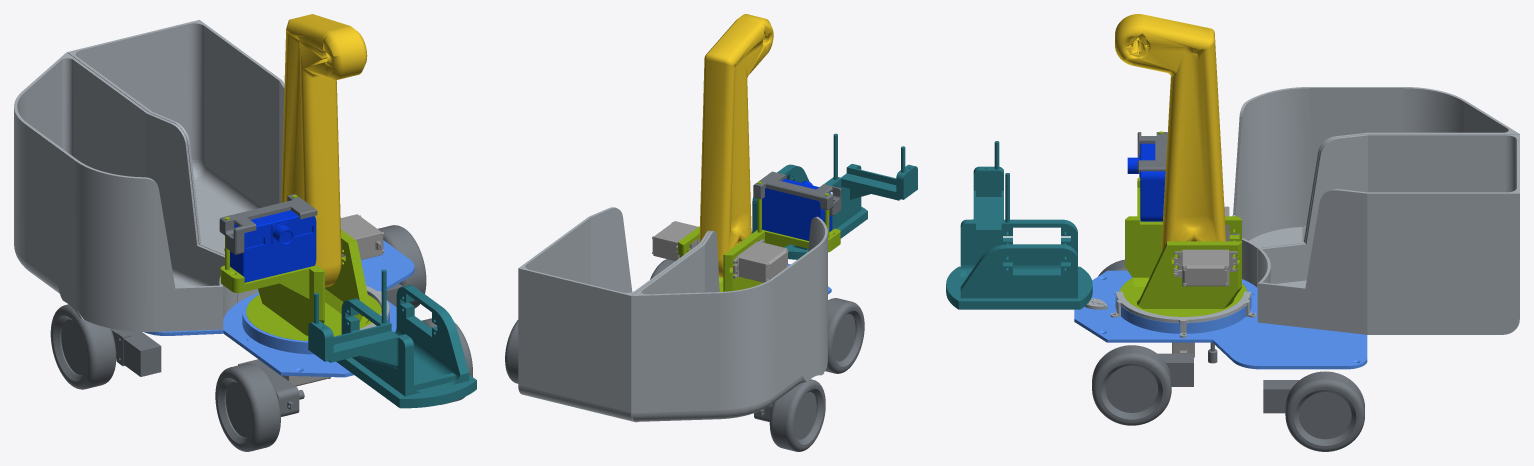
The model's file is mobilElios5.glb.
3 views of the same model, side by side, from view 1: azimuth 30°, elevation 25°; view 2: azimuth 150°, elevation 25°; view 3: azimuth 270°, elevation 25° (orthographic). The views are drawn at different scales.
Parts seen in each view (by area): view 1: fc-mesh-46, fc-mesh-45, fc-mesh-38, fc-mesh-48, fc-mesh-51, fc-mesh-43, fc-mesh-40, fc-mesh-42, fc-mesh-36, fc-mesh-37, fc-mesh-41, fc-mesh-14; view 2: fc-mesh-46, fc-mesh-45, fc-mesh-38, fc-mesh-48, fc-mesh-42, fc-mesh-36, fc-mesh-51, fc-mesh-40, fc-mesh-37, fc-mesh-26, fc-mesh-14, fc-mesh-41 (+1 smaller); view 3: fc-mesh-45, fc-mesh-46, fc-mesh-38, fc-mesh-48, fc-mesh-43, fc-mesh-51, fc-mesh-39, fc-mesh-41, fc-mesh-36, fc-mesh-52, fc-mesh-15, fc-mesh-37.
Boxes of the visible parts, <box> form: fc-mesh-46: <box>14,52,236,331</box>; fc-mesh-45: <box>67,20,284,302</box>; fc-mesh-38: <box>281,14,367,287</box>; fc-mesh-48: <box>308,269,476,408</box>; fc-mesh-51: <box>220,195,381,340</box>; fc-mesh-43: <box>144,240,414,377</box>; fc-mesh-40: <box>215,359,304,451</box>; fc-mesh-42: <box>50,304,161,389</box>; fc-mesh-36: <box>230,210,316,282</box>; fc-mesh-37: <box>219,194,317,254</box>; fc-mesh-41: <box>378,225,426,308</box>; fc-mesh-14: <box>340,216,375,259</box>; fc-mesh-46: <box>631,216,827,421</box>; fc-mesh-45: <box>518,207,710,422</box>; fc-mesh-38: <box>699,14,773,277</box>; fc-mesh-48: <box>751,133,917,259</box>; fc-mesh-42: <box>754,379,825,451</box>; fc-mesh-36: <box>762,179,832,240</box>; fc-mesh-51: <box>678,181,840,291</box>; fc-mesh-40: <box>825,298,864,373</box>; fc-mesh-37: <box>753,171,841,215</box>; fc-mesh-26: <box>740,242,780,281</box>; fc-mesh-14: <box>659,222,698,260</box>; fc-mesh-41: <box>505,320,518,383</box>; fc-mesh-45: <box>1257,134,1519,334</box>; fc-mesh-46: <box>1232,87,1519,287</box>; fc-mesh-38: <box>1115,14,1226,259</box>; fc-mesh-48: <box>946,141,1092,309</box>; fc-mesh-43: <box>1074,270,1367,369</box>; fc-mesh-51: <box>1119,131,1247,316</box>; fc-mesh-39: <box>1092,345,1193,425</box>; fc-mesh-41: <box>1263,371,1364,451</box>; fc-mesh-36: <box>1127,143,1165,221</box>; fc-mesh-52: <box>1110,291,1256,337</box>; fc-mesh-15: <box>1182,262,1229,286</box>; fc-mesh-37: <box>1137,132,1167,173</box>.
Size of the model in its own units: 308 by 339 by 490.
